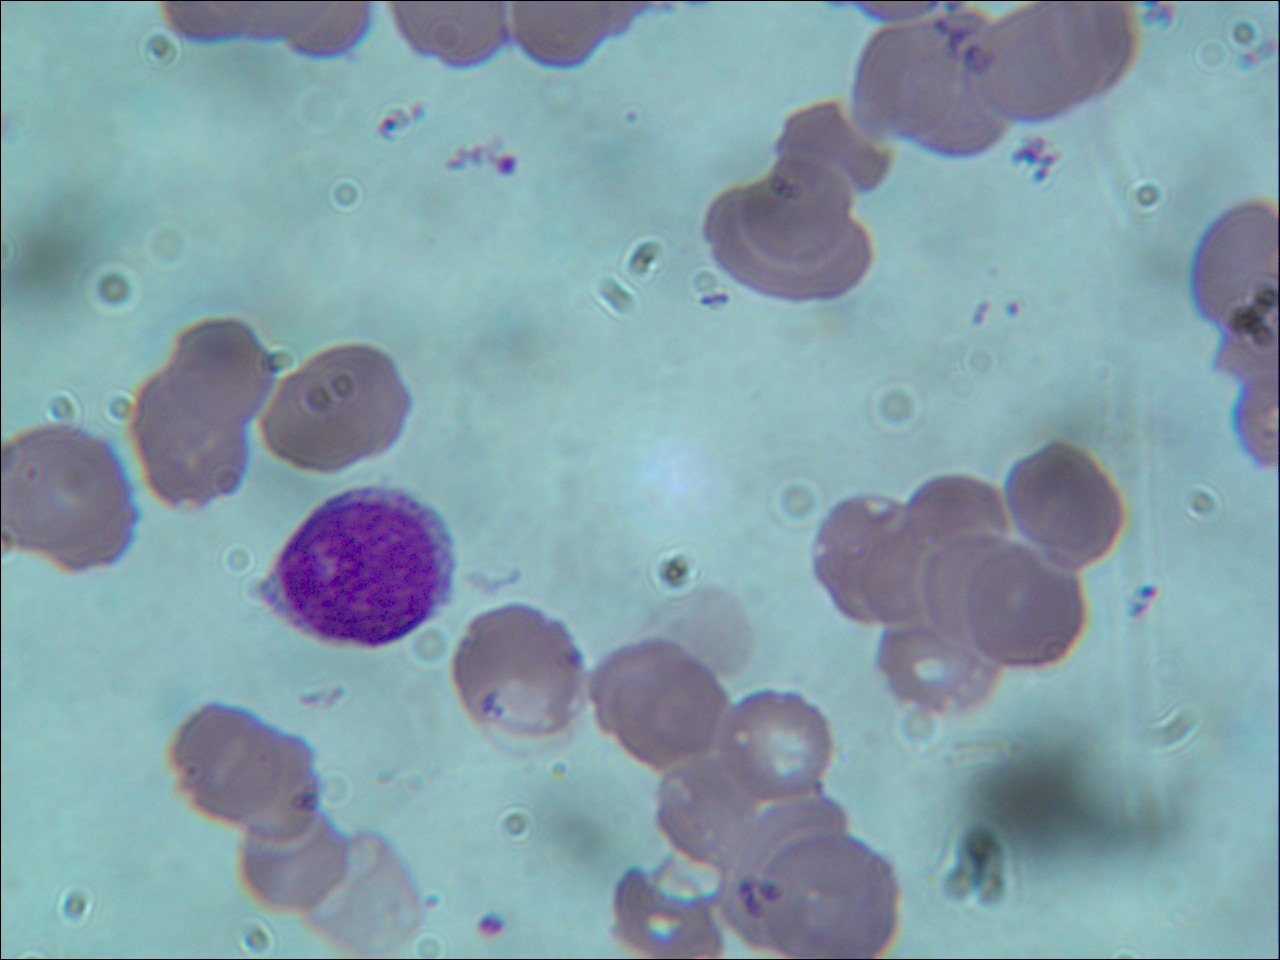Eritrosit: (700, 189, 875, 311), (6, 425, 136, 574), (267, 342, 412, 472), (812, 490, 946, 625), (896, 11, 1017, 159), (598, 640, 727, 777), (458, 603, 584, 743), (1000, 439, 1128, 574), (973, 1, 1109, 127), (762, 837, 898, 960), (125, 380, 252, 505), (970, 550, 1095, 669), (1183, 196, 1280, 333), (167, 699, 281, 815), (721, 689, 831, 806), (230, 819, 355, 919), (768, 99, 898, 194), (737, 155, 852, 262), (165, 315, 274, 425), (850, 25, 961, 131), (609, 858, 724, 960), (901, 478, 1006, 587), (927, 534, 1033, 640), (876, 624, 998, 715), (655, 753, 750, 865), (754, 796, 855, 899), (715, 855, 824, 947), (230, 750, 325, 846)
Limfoblast: (264, 486, 456, 647)
Platelet: (964, 294, 1000, 334), (473, 905, 511, 939), (689, 286, 731, 318), (365, 106, 402, 139), (492, 150, 525, 179), (562, 647, 596, 677), (1137, 575, 1164, 605), (404, 93, 431, 121), (1003, 294, 1028, 319), (1128, 596, 1148, 621)
